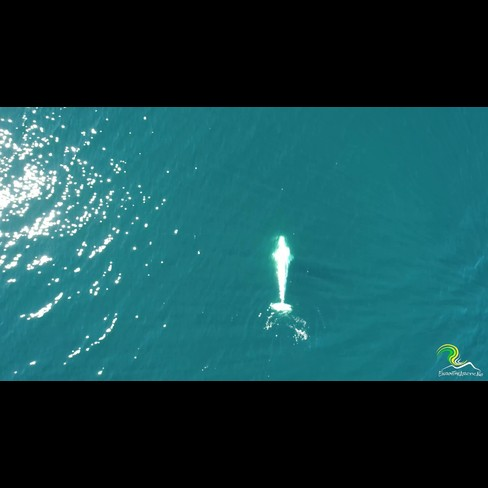beluga: (264, 230, 298, 320)
